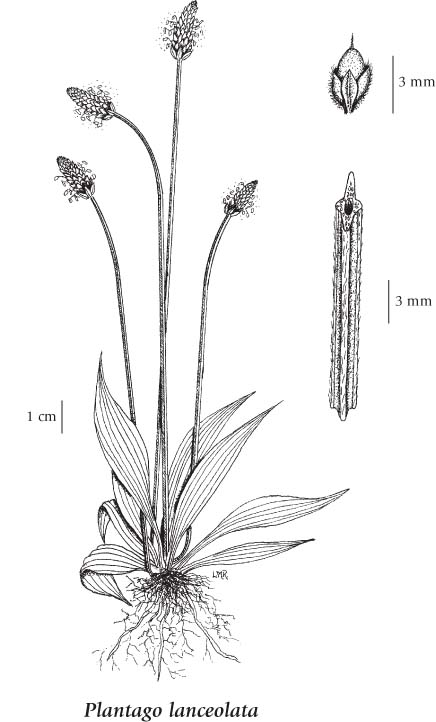buckhorn plantain: (38, 17, 312, 609)
